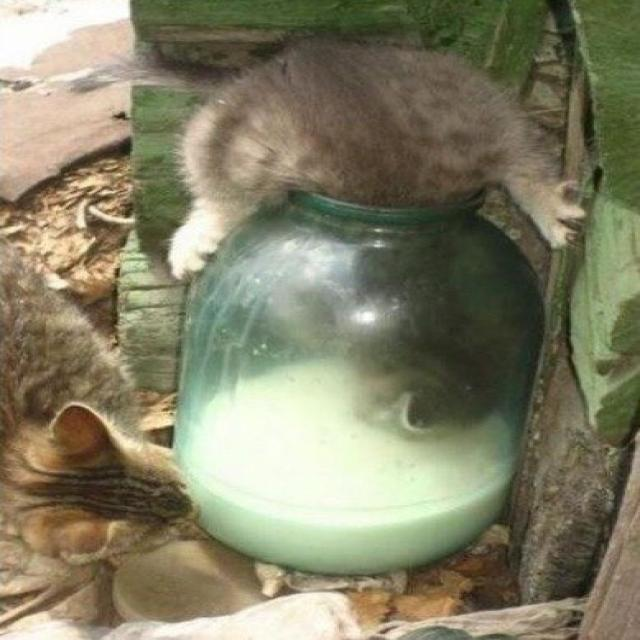Cats: (169, 48, 604, 444), (0, 258, 239, 560)
